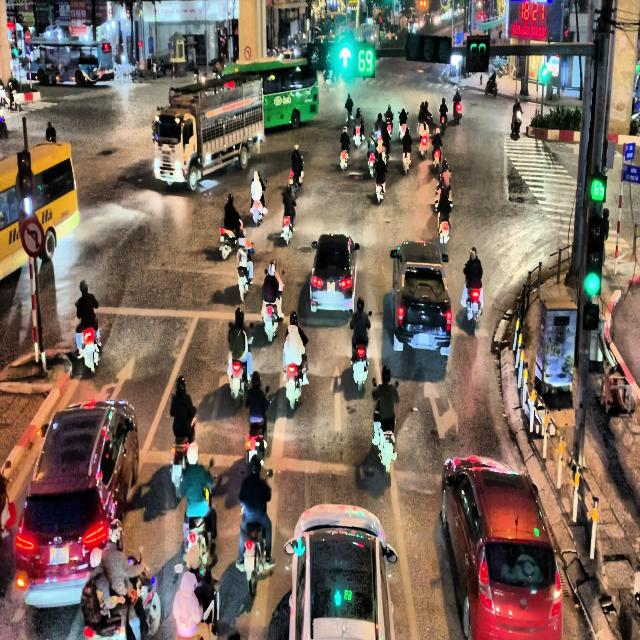lisence_plate: (47, 544, 70, 566), (419, 333, 429, 345), (327, 280, 336, 292)
